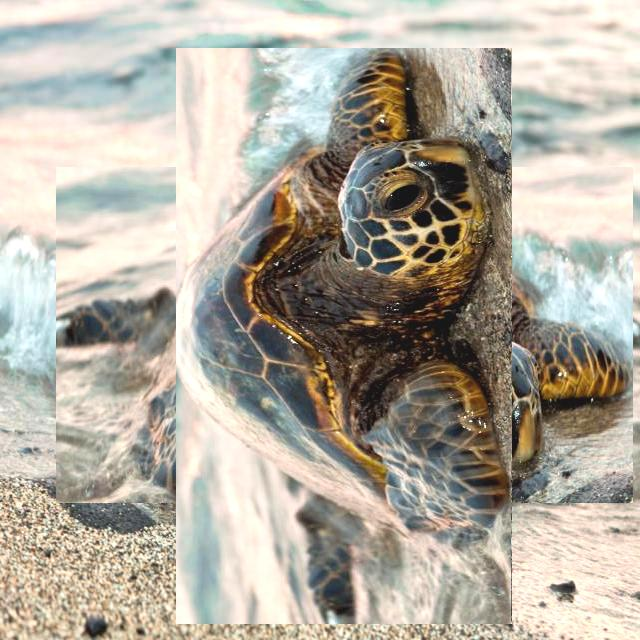Sea turtle: (116, 107, 573, 564)
